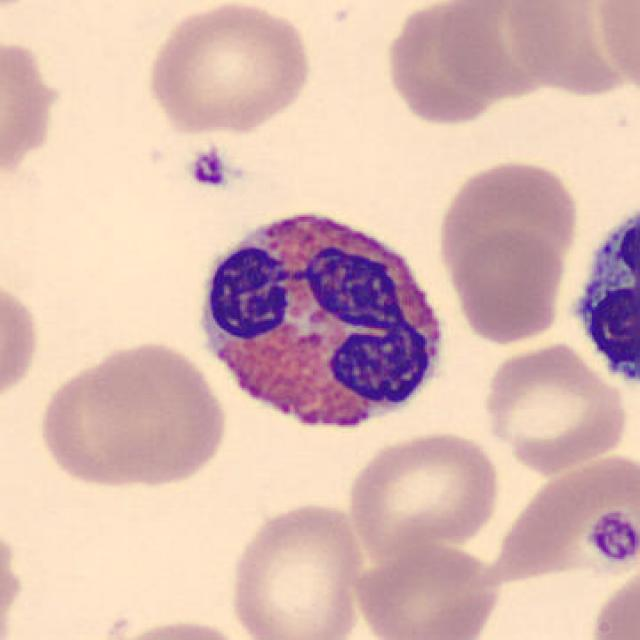Eosinophil: (187, 196, 457, 451)
Lymphocyte: (560, 189, 640, 400)
Platelets: (585, 508, 636, 571), (185, 147, 231, 190)
RBC: (357, 0, 567, 203), (39, 337, 233, 492), (140, 0, 316, 138), (343, 427, 505, 559), (478, 338, 631, 474), (224, 497, 368, 640), (434, 155, 583, 289), (483, 455, 640, 574), (379, 0, 510, 129), (428, 0, 584, 100), (350, 539, 503, 640), (448, 226, 569, 346), (501, 0, 639, 100), (0, 30, 69, 195), (0, 270, 43, 416), (592, 0, 638, 97), (99, 613, 254, 640), (585, 562, 638, 640), (0, 516, 26, 640), (0, 0, 57, 18)
